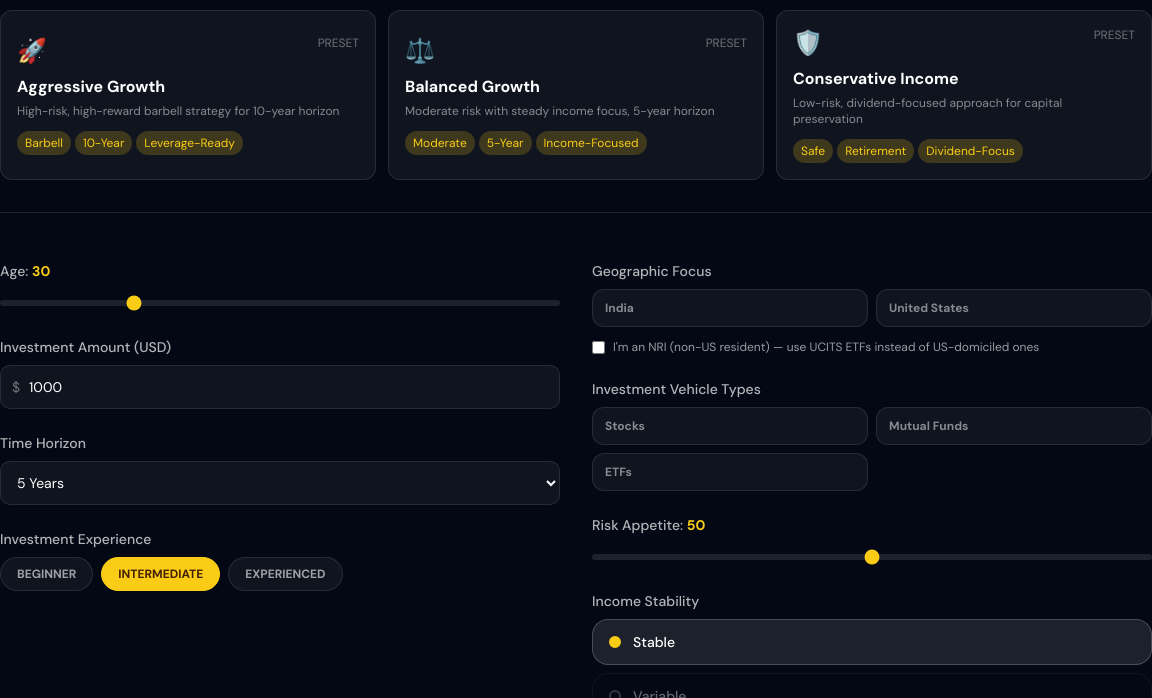
Test: InvestmentGenieForm › validates required fields
Replace the text in the number field labelled "Investment Amount (USD)" with "50" at (280, 387), box [0,365,560,409]
(page scrolled)
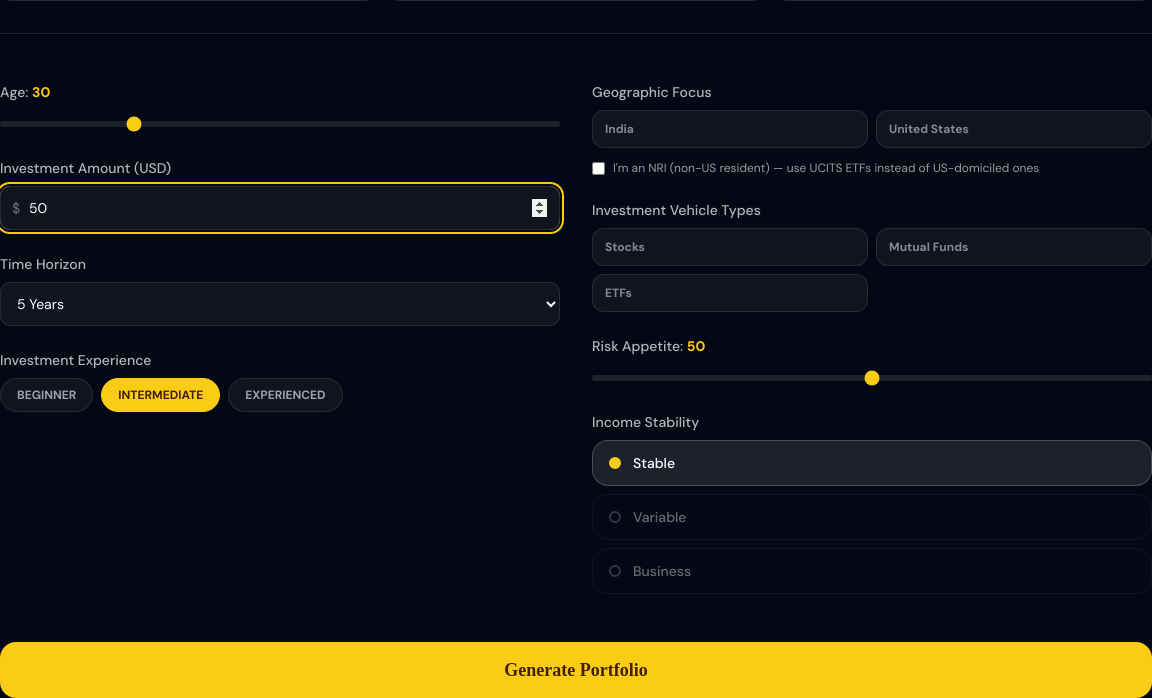
Click the button "Generate Portfolio" at (576, 670), box [0,642,1151,697]
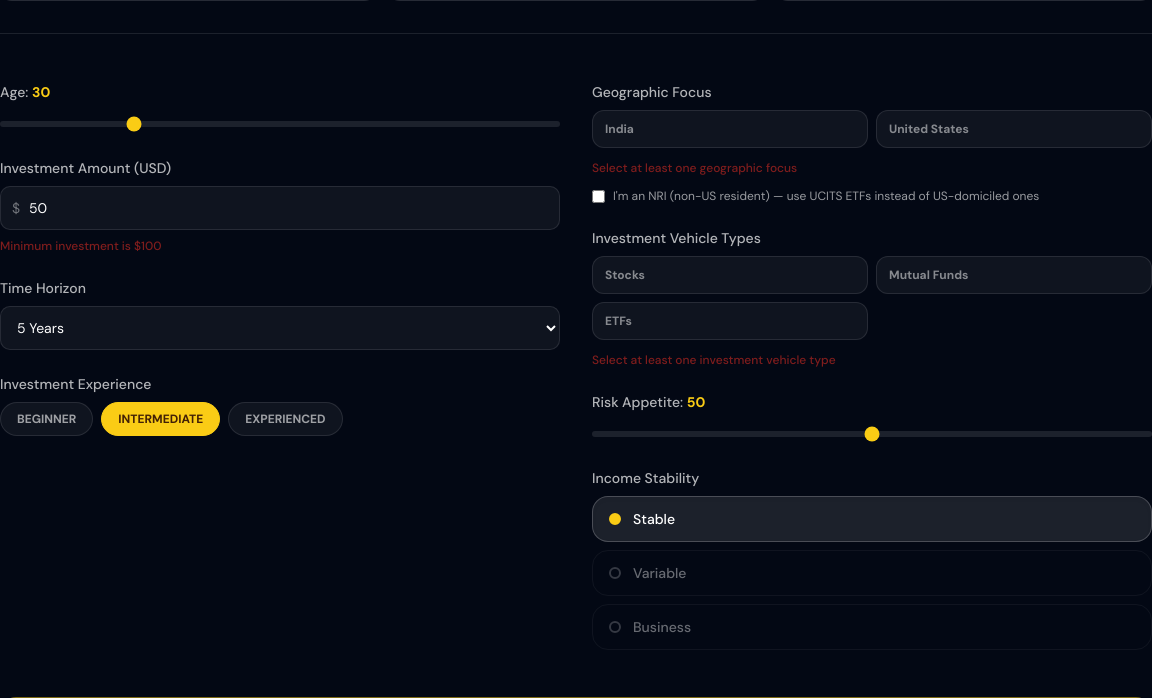
Expected: the text "Minimum investment is $100" is shown, [0,238,162,254]
Expected: the text "Select at least one geographic focus" is shown, [592,160,797,176]
Expected: the text "Select at least one investment vehicle type" is shown, [592,352,836,368]
